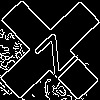Z: (25, 25, 80, 79)
